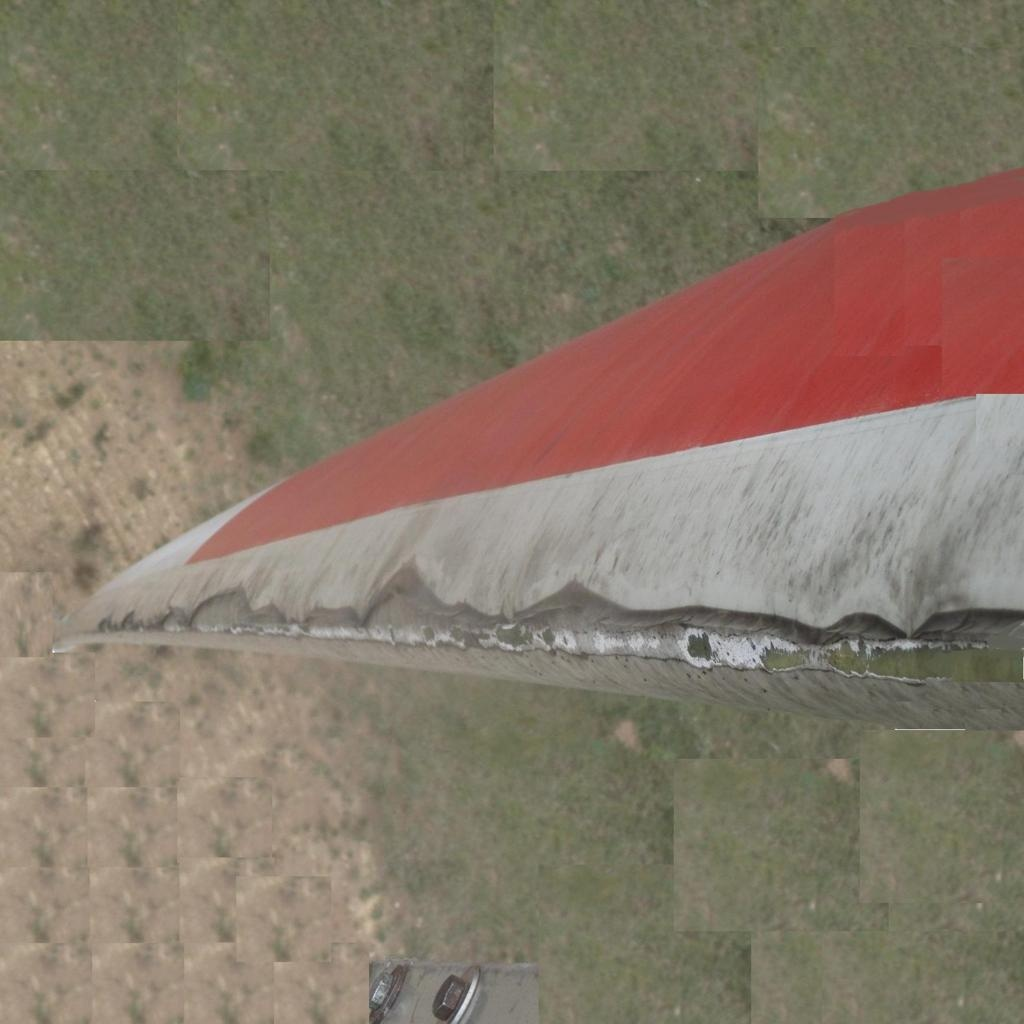craze: (102, 581, 1017, 720)
